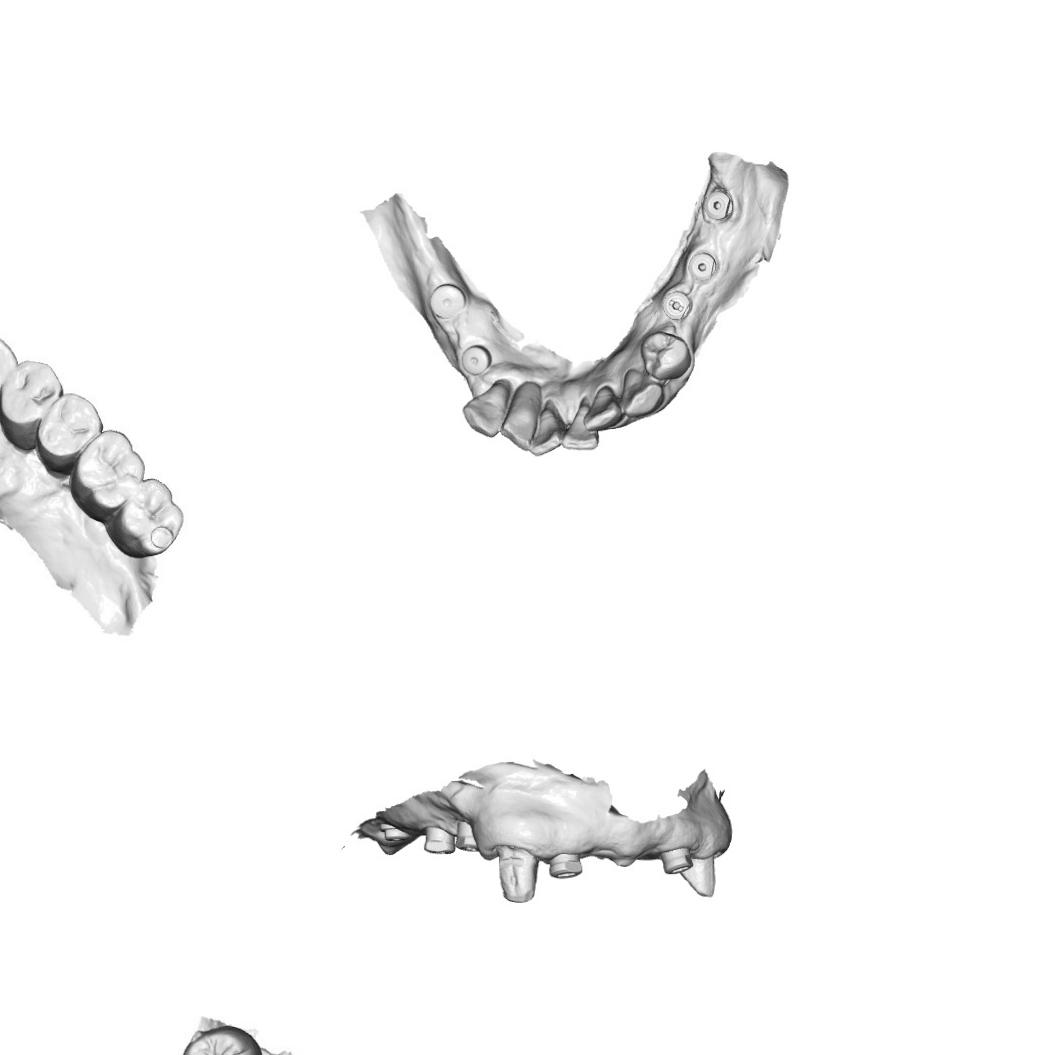canine: (459, 382, 509, 438), (620, 366, 666, 419), (0, 333, 15, 424)
implant: (427, 280, 467, 320), (700, 188, 737, 222), (684, 250, 720, 284), (421, 824, 458, 857), (458, 344, 493, 376), (379, 816, 413, 846), (453, 825, 482, 856)
implant_minus: (546, 850, 584, 881), (660, 286, 692, 322), (659, 844, 694, 876)
incisor: (497, 398, 540, 452), (559, 402, 600, 452), (582, 383, 622, 432), (526, 407, 562, 458)
molar: (64, 426, 141, 519), (104, 473, 186, 560), (181, 1023, 255, 1055)
premolar: (34, 392, 108, 480), (0, 360, 65, 451), (637, 328, 693, 382)
